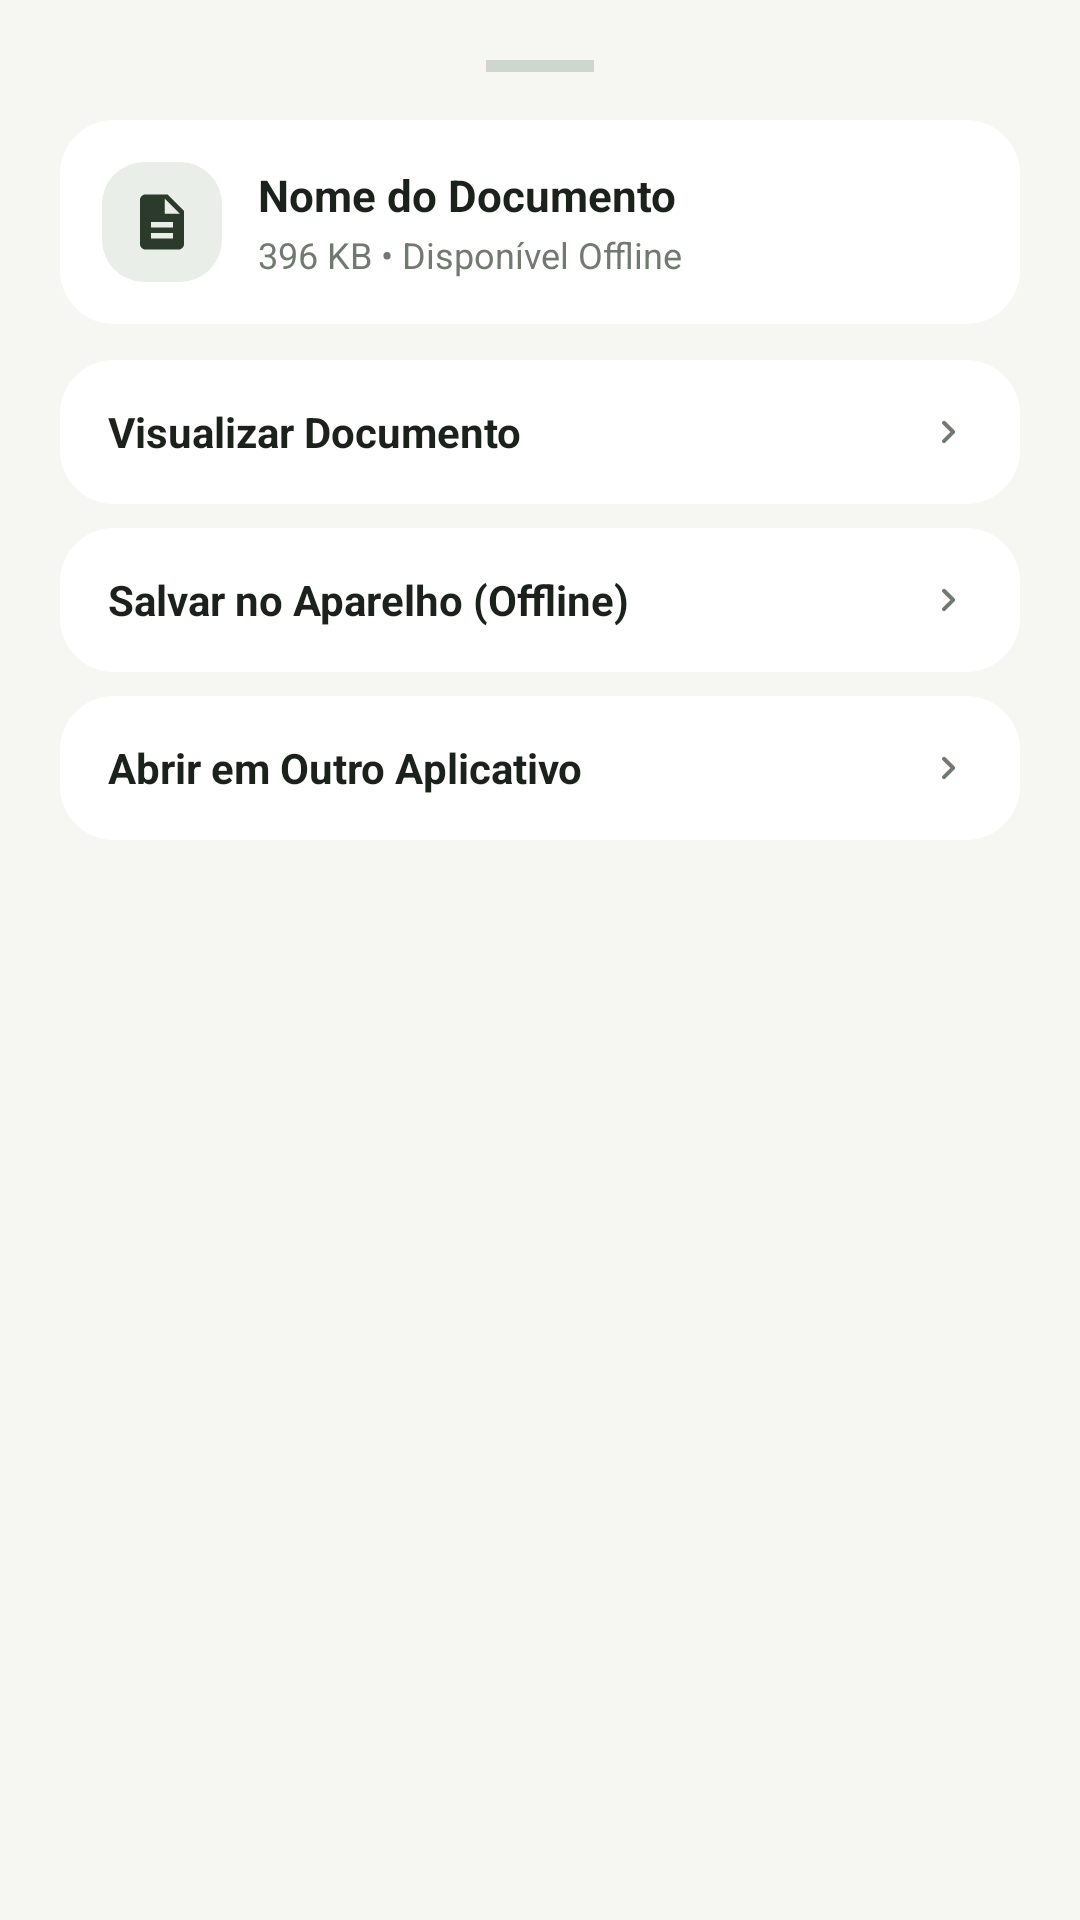

Screen size 1080x1920. Icon name, then its box in pixels as (x1, y1, x2, y2):
Arquivo: (140, 194, 184, 250)
